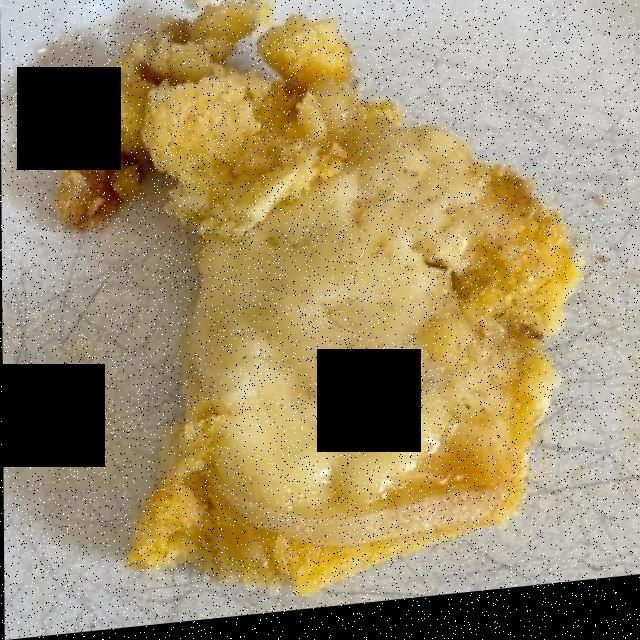cheese: (175, 92, 495, 555)
polenta: (64, 0, 540, 582)
